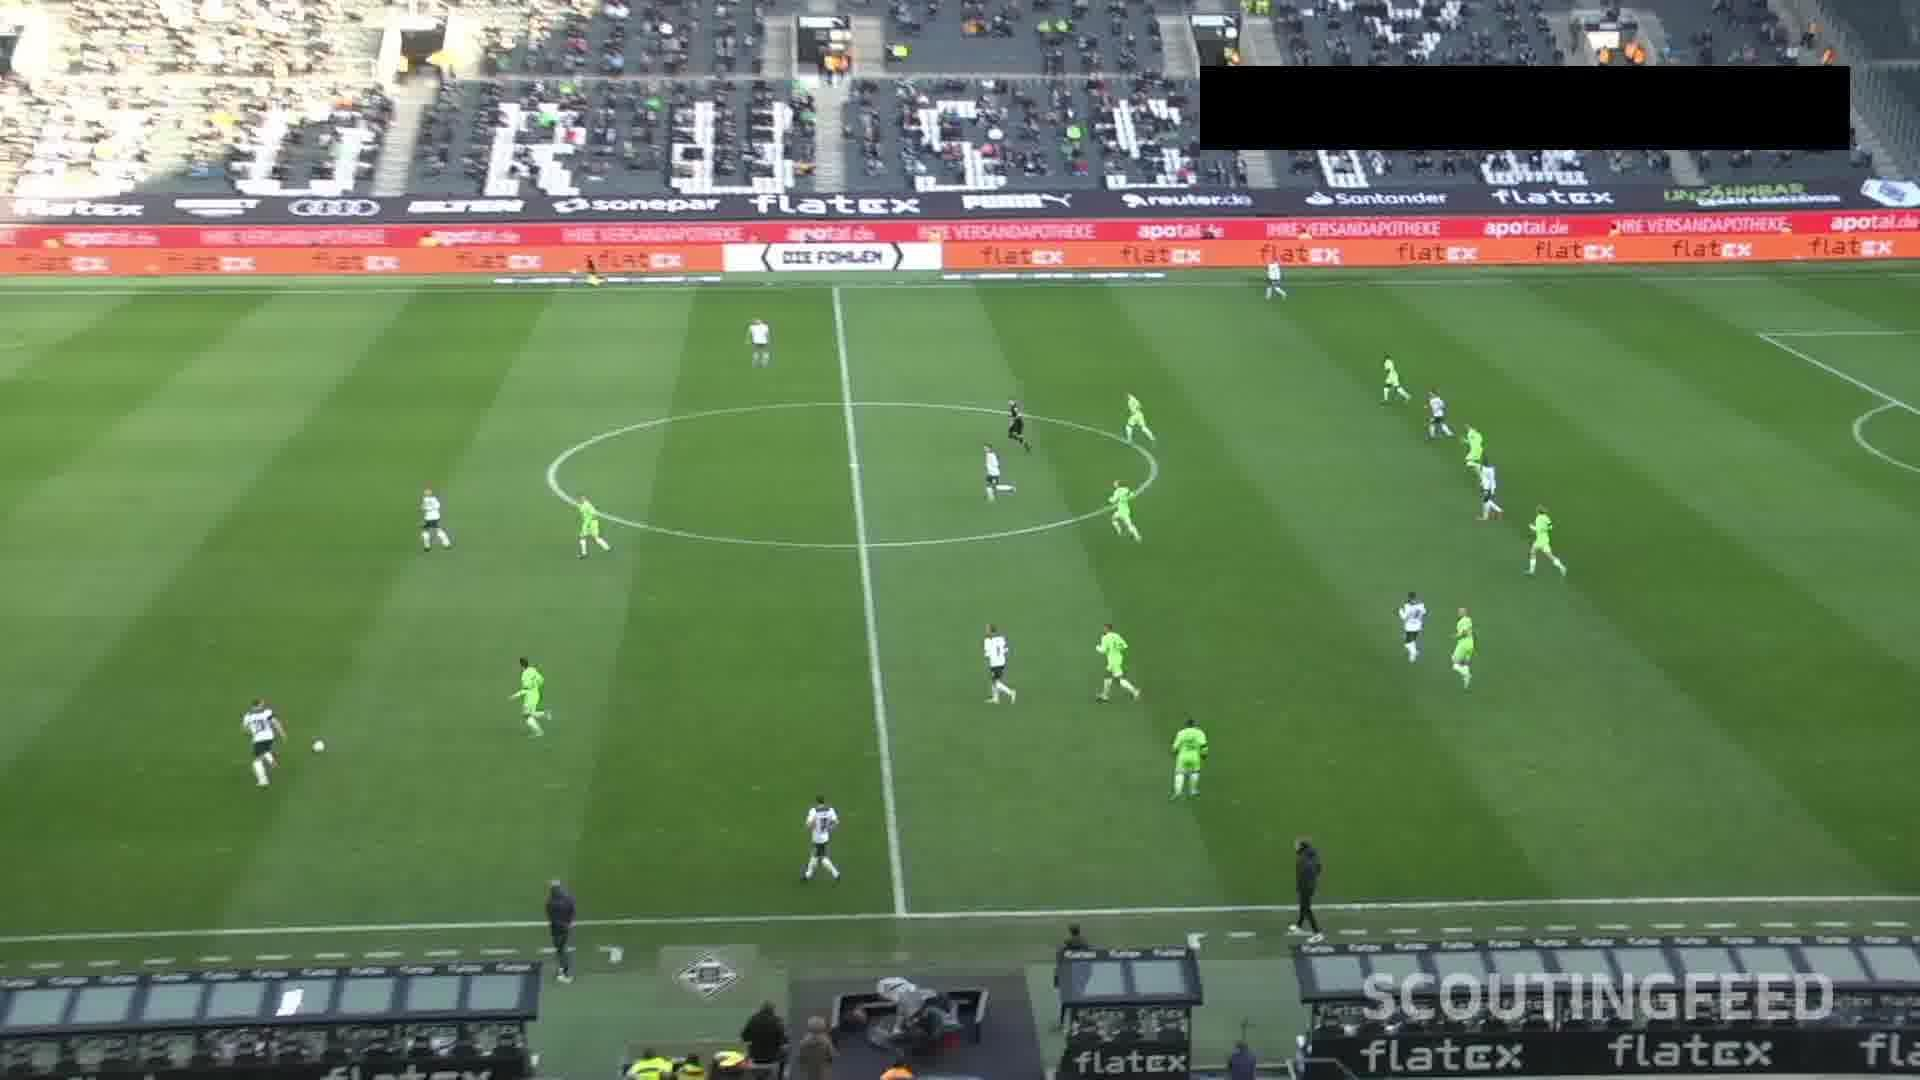football: (309, 736, 327, 757)
